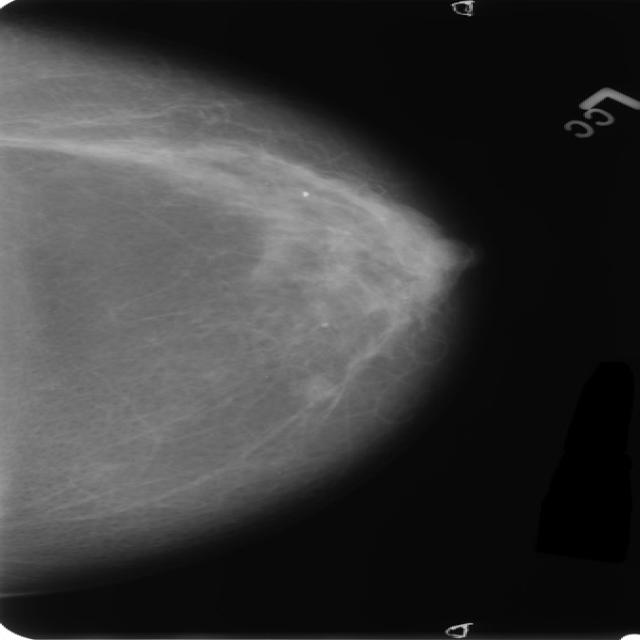tumour: (298, 374, 336, 401)
